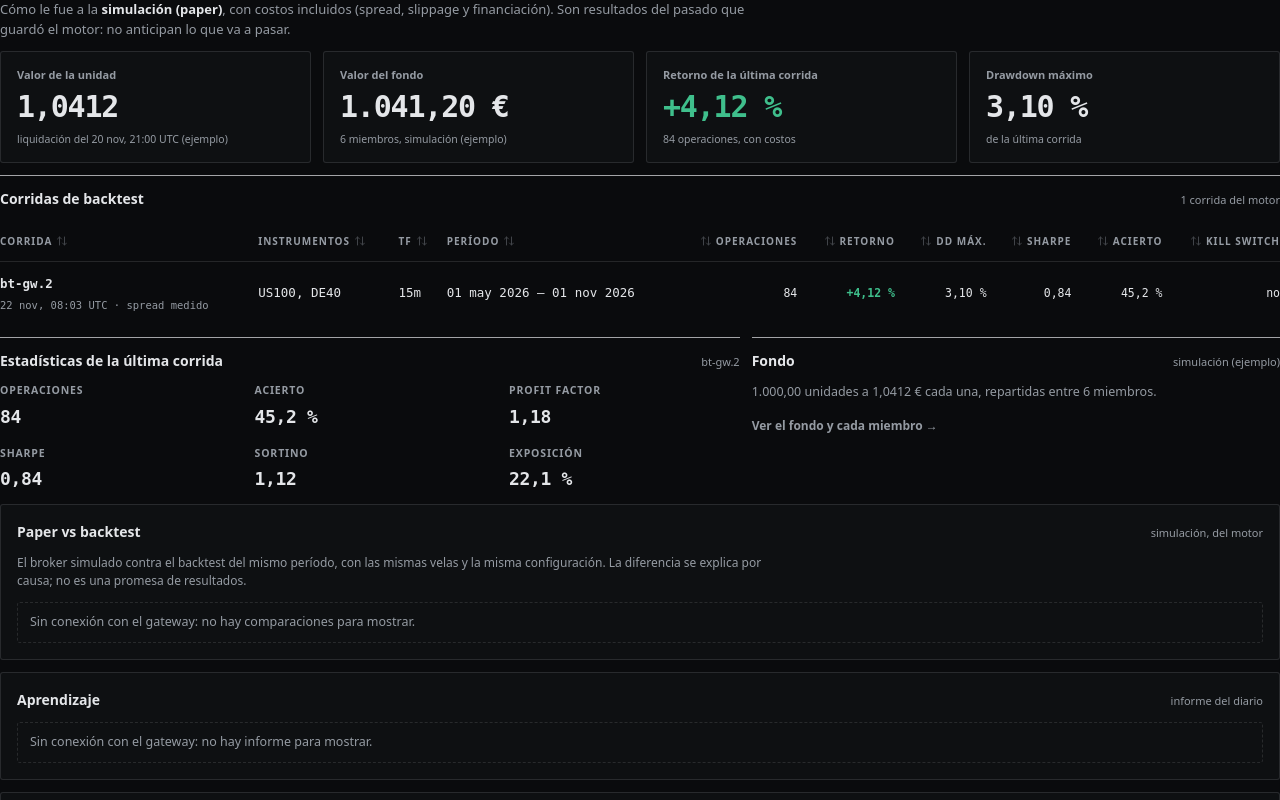
Test: detalle de una corrida de backtest (#299) › si el gateway falla al pedir el detalle, lo avisa
The image size is (1280, 800).
Expected: the text "1 corrida del motor" is shown, [1180, 192, 1279, 208]
Click the button "bt-gw.2" at (26, 284), box [0, 272, 53, 296]
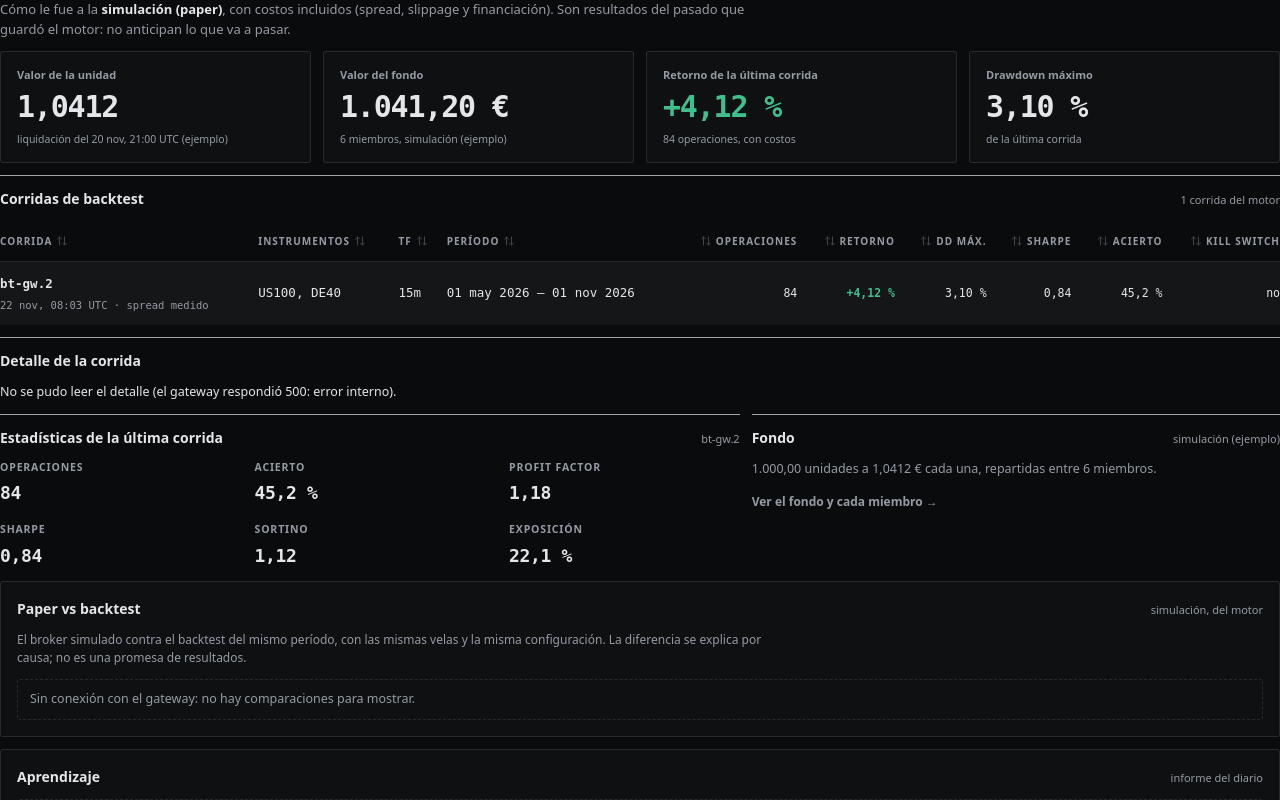
Expected: the message shows "500", [156, 383, 389, 400]
